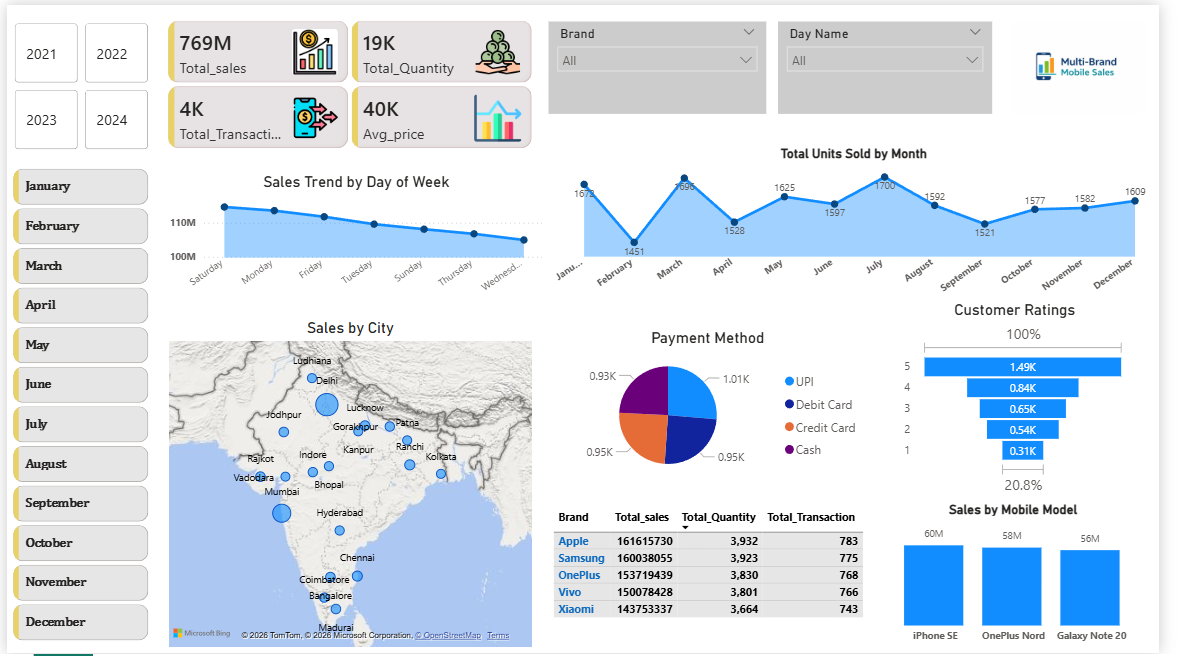

The page's visual inventory and layout, read from the dashboard file:
{"tool":"powerbi","page":{"name":"Page 1","canvas":[1280,720],"ordinal":0},"visuals":[{"type":"image","box":[1106,19,166.7,102.4],"z":0},{"type":"cardVisual","fields":{"Data":["mobile_sales_data.Total_sales","mobile_sales_data.Total_Quantity","mobile_sales_data.Total_Transaction","mobile_sales_data.Avg_price"]},"box":[161.9,0,439.3,177.4],"z":1000},{"type":"map","title":"Sales by City","fields":{"Category":["mobile_sales_data.City"],"Size":["mobile_sales_data.Total_sales"]},"box":[175,348.8,413.1,369],"z":2000},{"type":"lineChart","title":"Total Units Sold by Month","fields":{"Y":["Sum(mobile_sales_data.Units Sold)"],"Category":["mobile_sales_data.Date.Variation.Date Hierarchy.Month","mobile_sales_data.Date.Variation.Date Hierarchy.Day"]},"box":[601.2,156,678.6,172.6],"z":3000},{"type":"tableEx","fields":{"Values":["mobile_sales_data.Brand","mobile_sales_data.Total_sales","mobile_sales_data.Total_Quantity","mobile_sales_data.Total_Transaction"]},"box":[601.2,554.8,356,165.5],"z":4000},{"type":"pieChart","title":"Payment Method","fields":{"Y":["CountNonNull(mobile_sales_data.Transaction ID)"],"Category":["mobile_sales_data.Payment Method"]},"box":[600,359.5,357.1,171.4],"z":5000},{"type":"stackedAreaChart","title":"Sales Trend by Day of Week","fields":{"Y":["mobile_sales_data.Total_sales"],"Category":["mobile_sales_data.Day Name"]},"box":[175,186.9,426.2,141.7],"z":6000},{"type":"clusteredColumnChart","title":"Sales by Mobile Model","fields":{"Category":["mobile_sales_data.Mobile Model"],"Y":["mobile_sales_data.Total_sales"]},"box":[957.1,552.4,322.6,165.5],"z":7000},{"type":"funnel","title":"Customer Ratings","fields":{"Category":["mobile_sales_data.Customer Ratings"],"Y":["CountNonNull(mobile_sales_data.Brand)"]},"box":[991.7,328.6,256,220.2],"z":8000},{"type":"advancedSlicerVisual","fields":{"Values":["mobile_sales_data.Date.Variation.Date Hierarchy.Month"]},"box":[1.2,177.4,160.7,540.5],"z":9000},{"type":"advancedSlicerVisual","fields":{"Values":["mobile_sales_data.Date.Variation.Date Hierarchy.Year"]},"box":[3.6,14.3,158.3,151.2],"z":10000},{"type":"slicer","fields":{"Values":["mobile_sales_data.Brand"]},"box":[601.2,19,241.7,102.4],"z":11000},{"type":"slicer","fields":{"Values":["mobile_sales_data.Day Name"]},"box":[857.1,19,238.1,102.4],"z":12000}]}

Visuals, with their boxes in screenshot pixels (x1, y1, x2, y2), scaled from the page's 1280x720 canvas onto the 1189x656 screenshot:
image: locate(1027, 17, 1182, 111)
cardVisual - mobile_sales_data.Total_sales x mobile_sales_data.Total_Quantity: locate(150, 0, 558, 162)
"Sales by City" map: locate(163, 318, 546, 654)
"Total Units Sold by Month" lineChart: locate(558, 142, 1188, 299)
tableEx - mobile_sales_data.Brand x mobile_sales_data.Total_sales: locate(558, 505, 889, 655)
"Payment Method" pieChart: locate(557, 328, 889, 484)
"Sales Trend by Day of Week" stackedAreaChart: locate(163, 170, 558, 299)
"Sales by Mobile Model" clusteredColumnChart: locate(889, 503, 1188, 654)
"Customer Ratings" funnel: locate(921, 299, 1159, 500)
advancedSlicerVisual - mobile_sales_data.Date.Variation.Date Hierarchy.Month: locate(1, 162, 150, 654)
advancedSlicerVisual - mobile_sales_data.Date.Variation.Date Hierarchy.Year: locate(3, 13, 150, 151)
slicer - mobile_sales_data.Brand: locate(558, 17, 783, 111)
slicer - mobile_sales_data.Day Name: locate(796, 17, 1017, 111)
